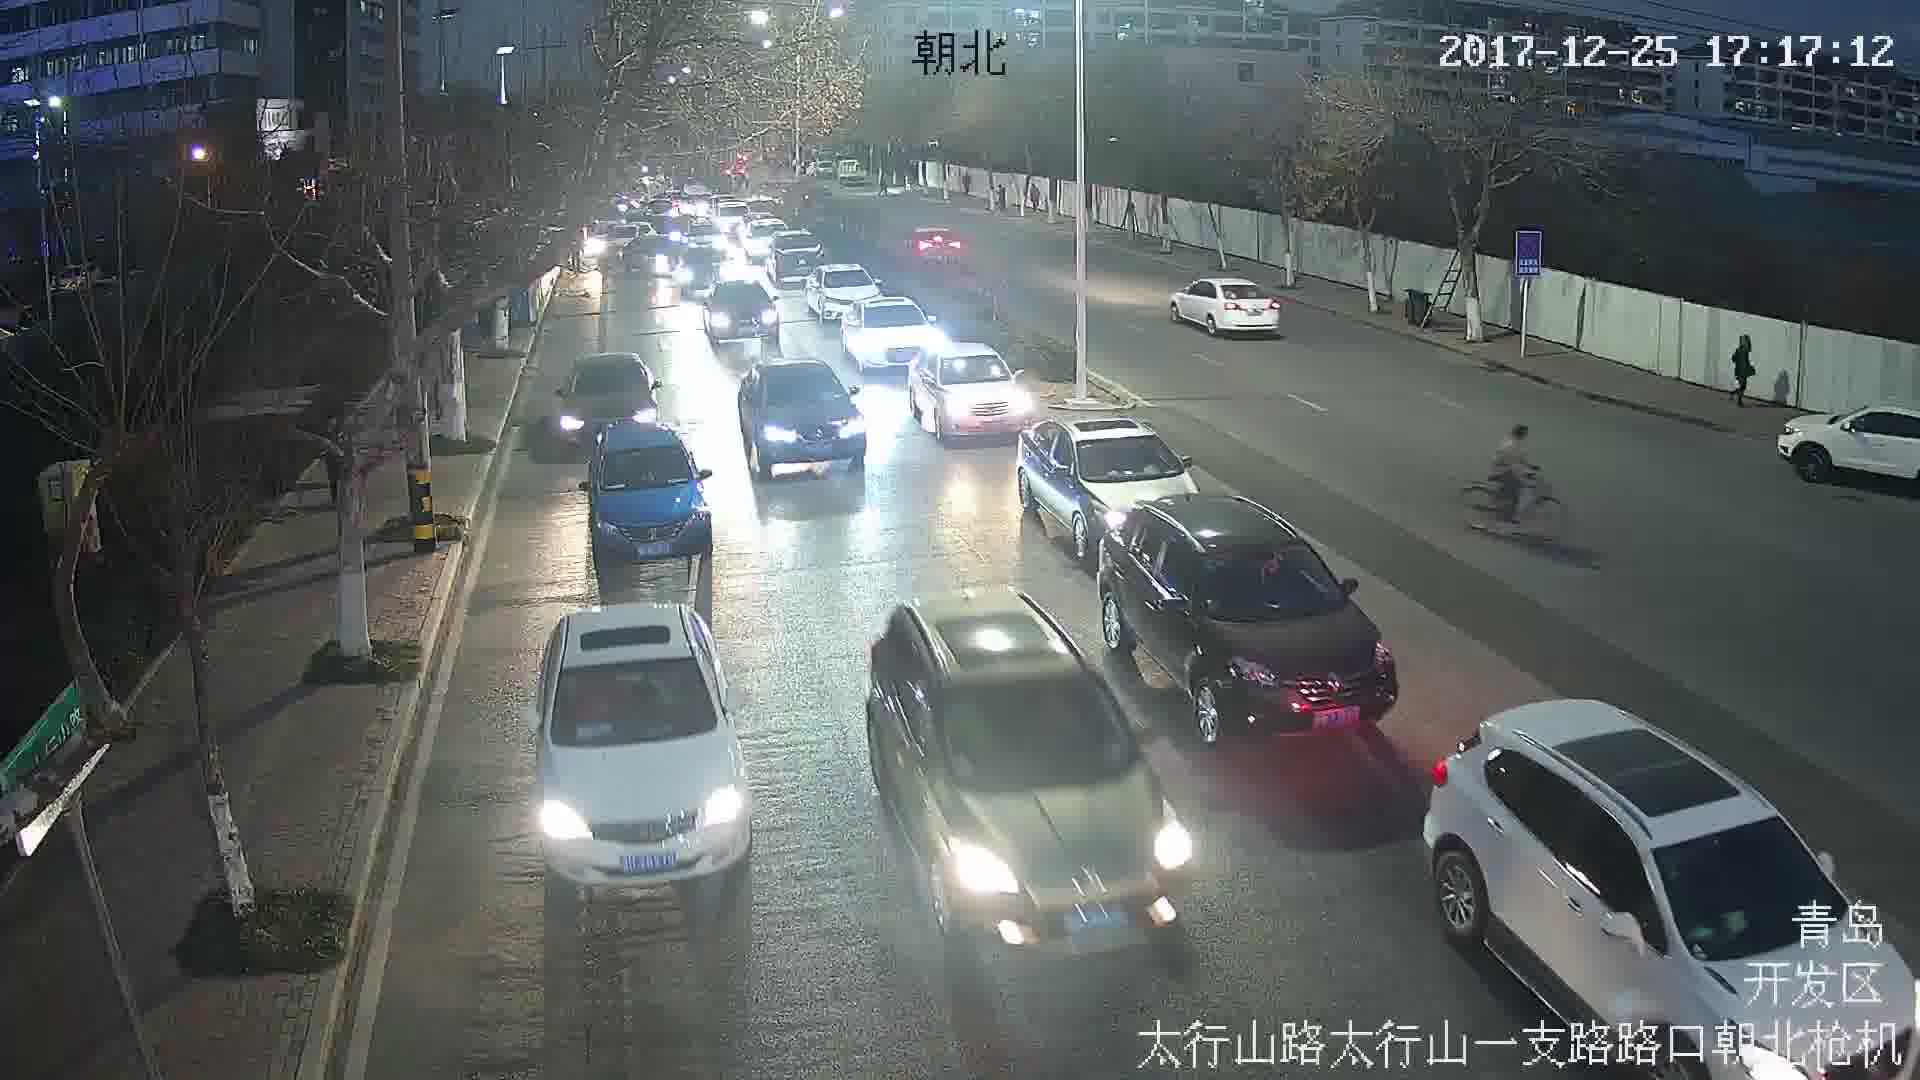car: (868, 585, 1191, 946), (1098, 500, 1399, 741), (537, 606, 752, 888), (1010, 419, 1196, 542), (591, 420, 709, 563), (741, 359, 875, 470), (903, 344, 1035, 434), (1170, 275, 1282, 338), (710, 282, 780, 339)
person: (1487, 427, 1539, 517), (1727, 328, 1759, 409)
